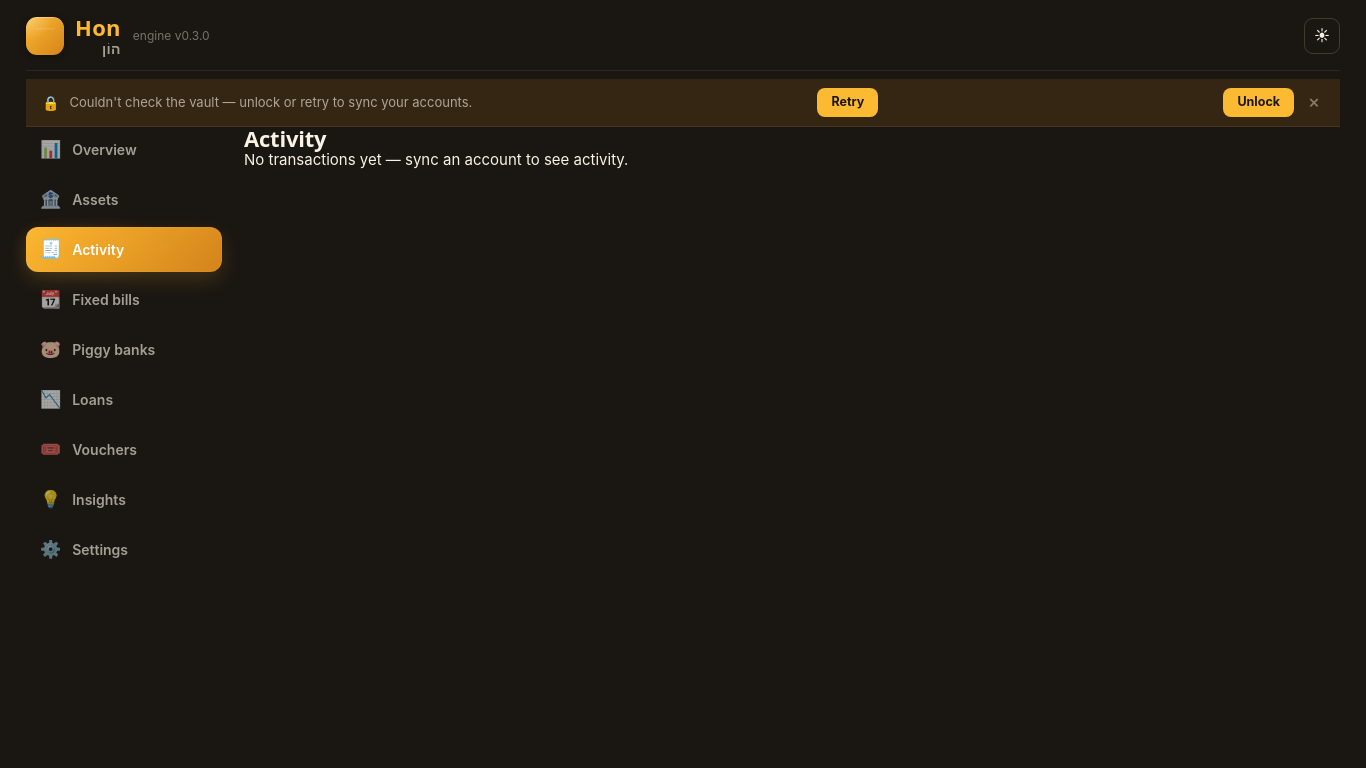
Test: App — tab routing › switches to the Loans tab on click
Click the tab "📉 Loans" at (124, 399), box [26,377,222,422]
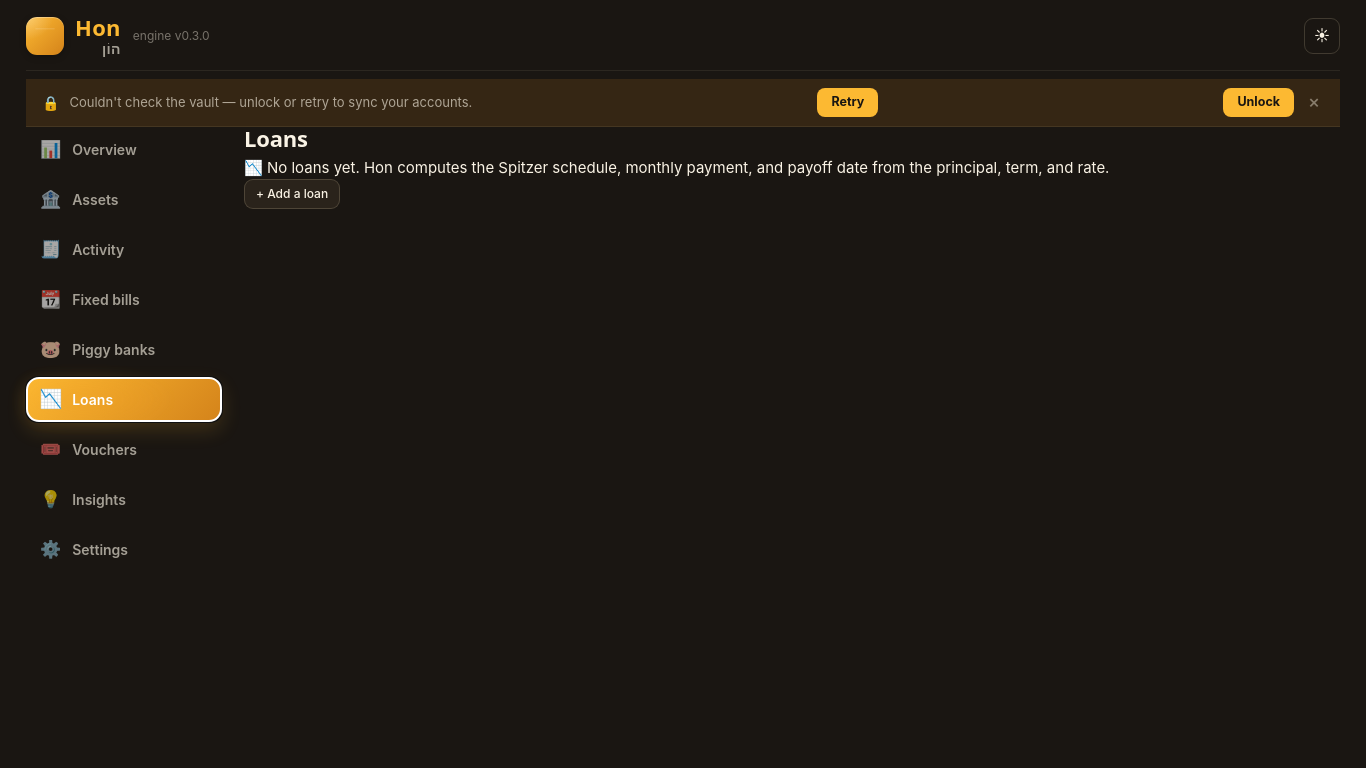
Check: the heading "Loans" is shown, box [244,123,308,153]
